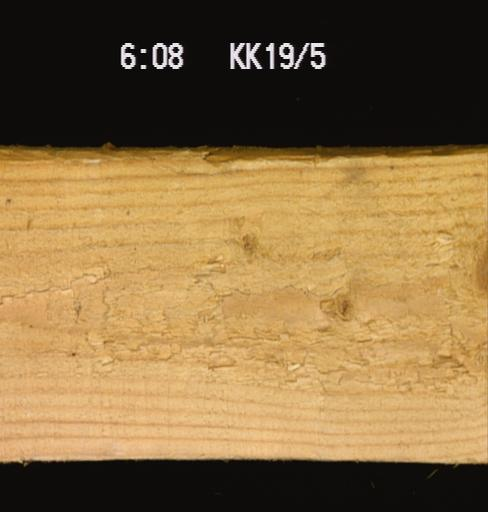small_knot: (222, 212, 264, 265), (315, 286, 361, 323)
sound_knot: (461, 222, 487, 303)
wave: (0, 146, 487, 170)
